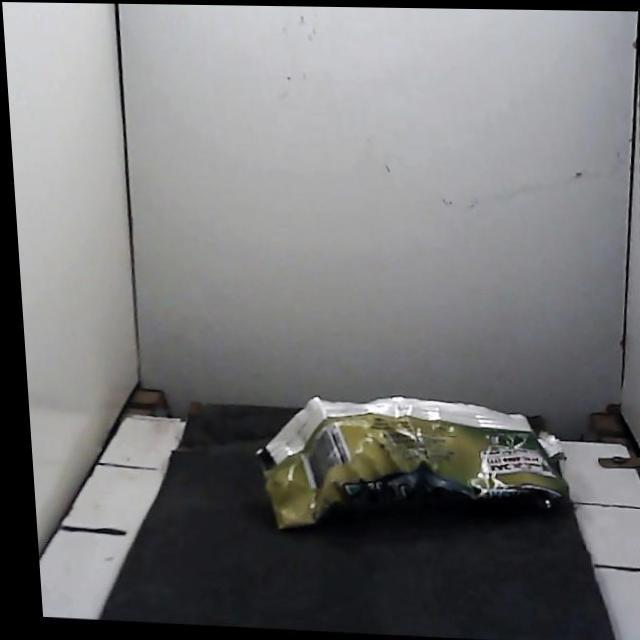plastico: (257, 397, 568, 528)
